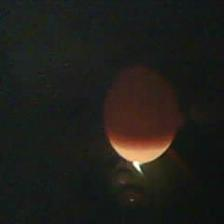fertile: (100, 60, 182, 166)
